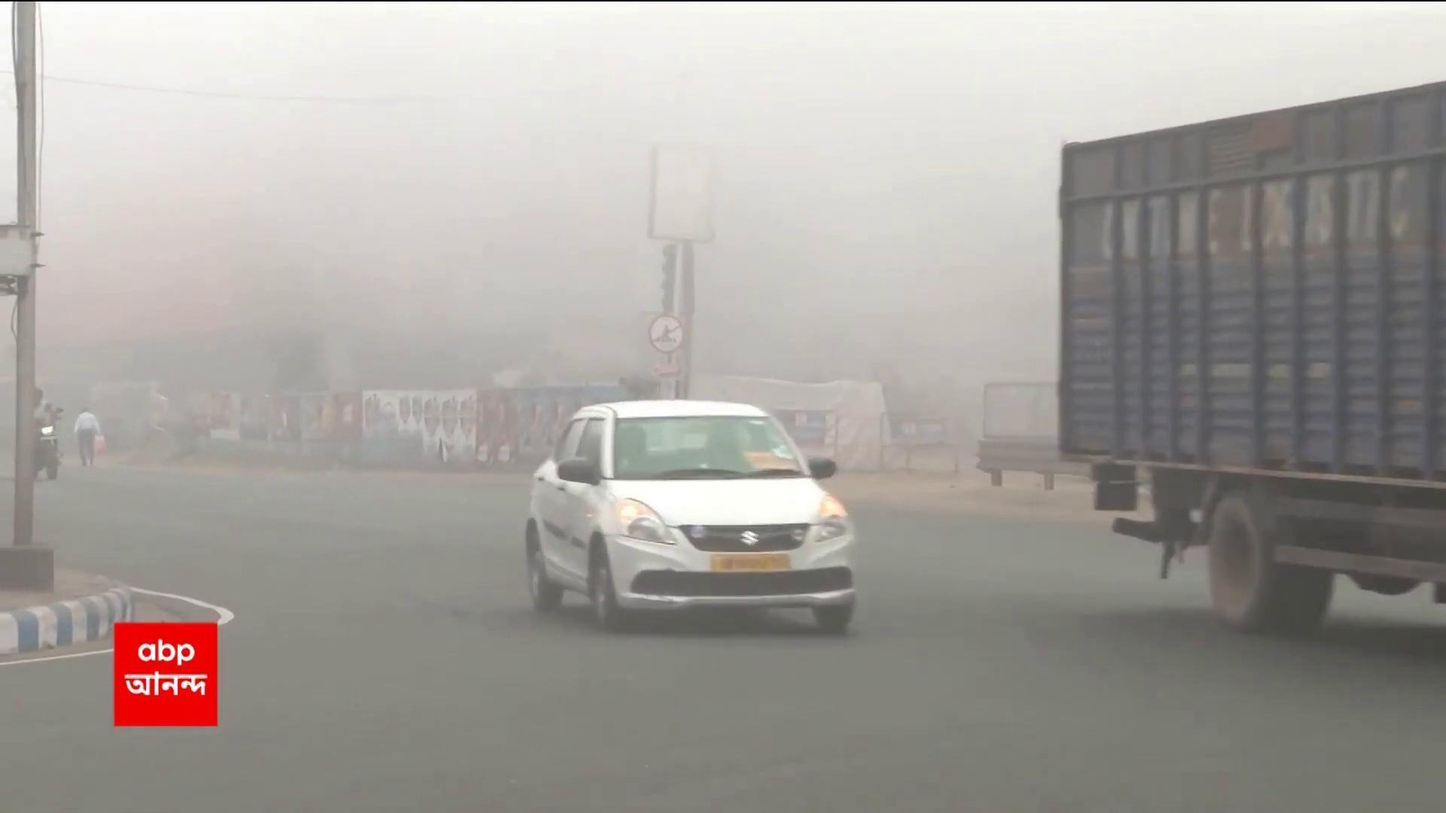Car: (523, 401, 860, 639)
Truck: (1054, 72, 1446, 606)
